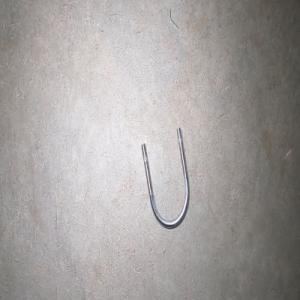ClampPart: (141, 126, 189, 229)
